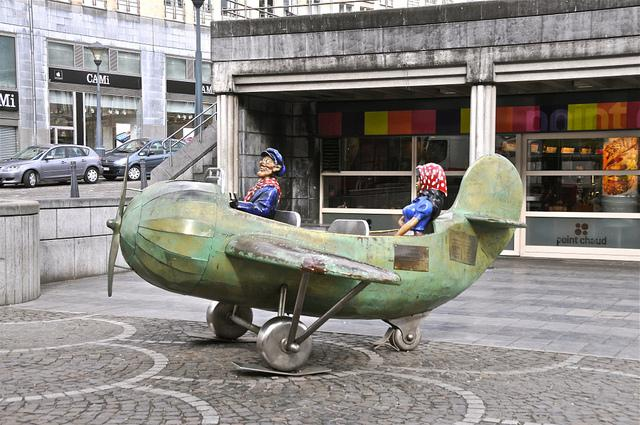Airplane: (102, 150, 527, 368)
